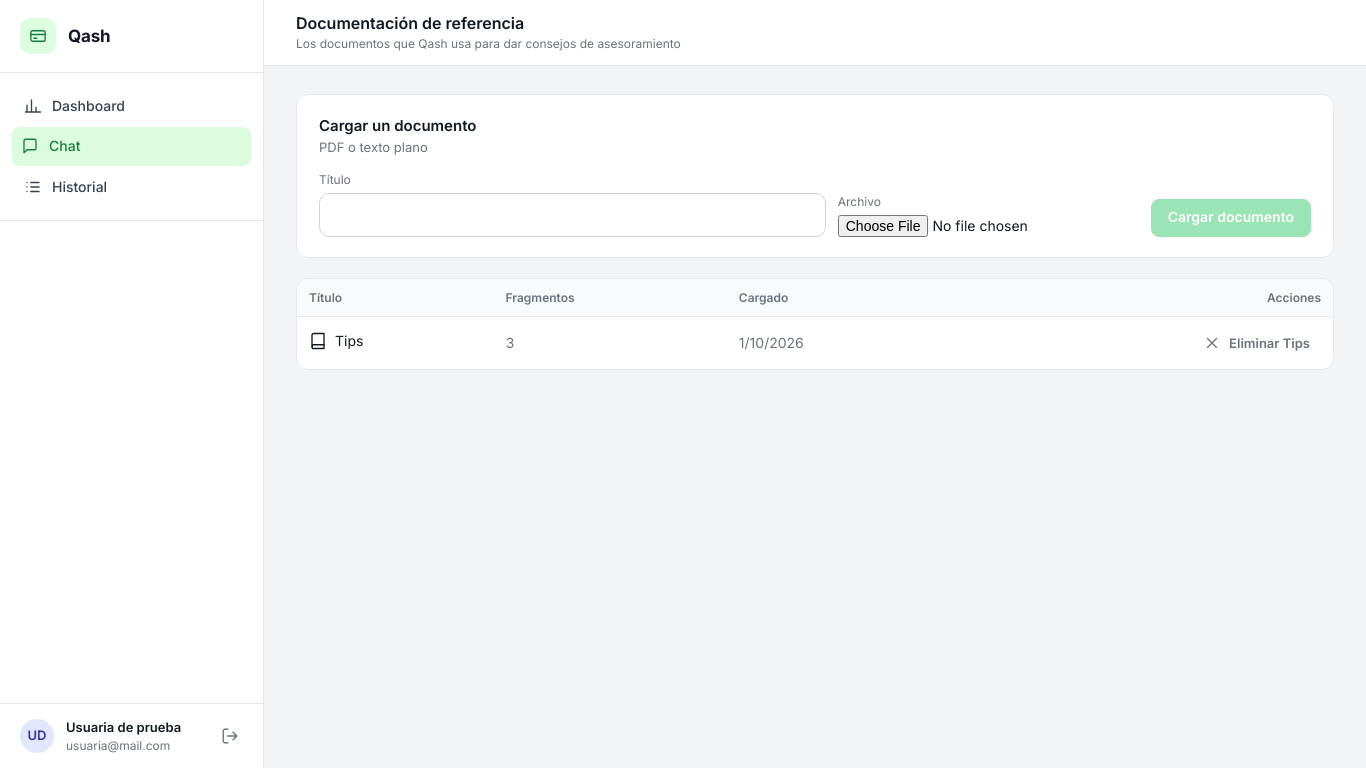
Test: AdminDocumentos › elimina un documento
Expected: the text "Tips" is shown, [309, 331, 363, 351]
Click the button "Eliminar Tips" at (1257, 343), box [1192, 328, 1321, 358]
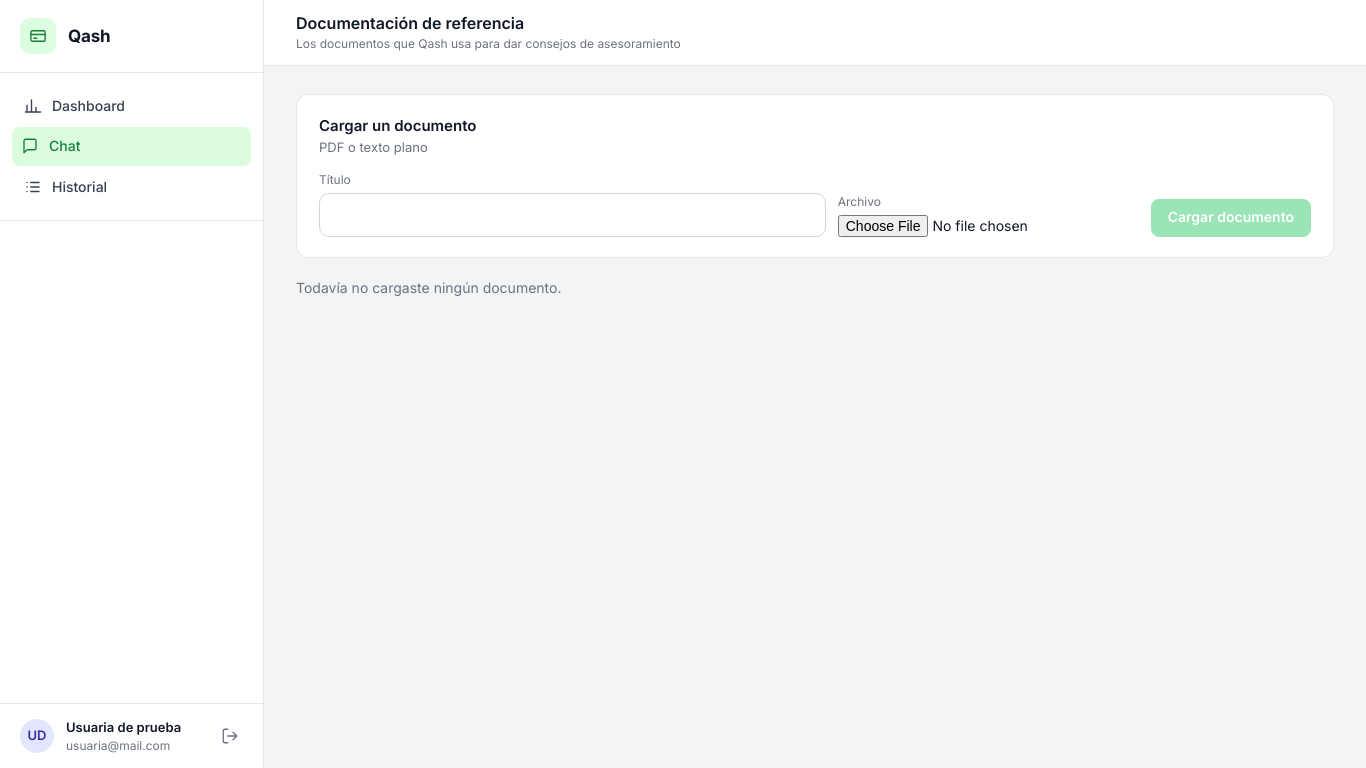
Expected: the text "Todavía no cargaste ningún documento." is shown, [296, 279, 562, 296]
